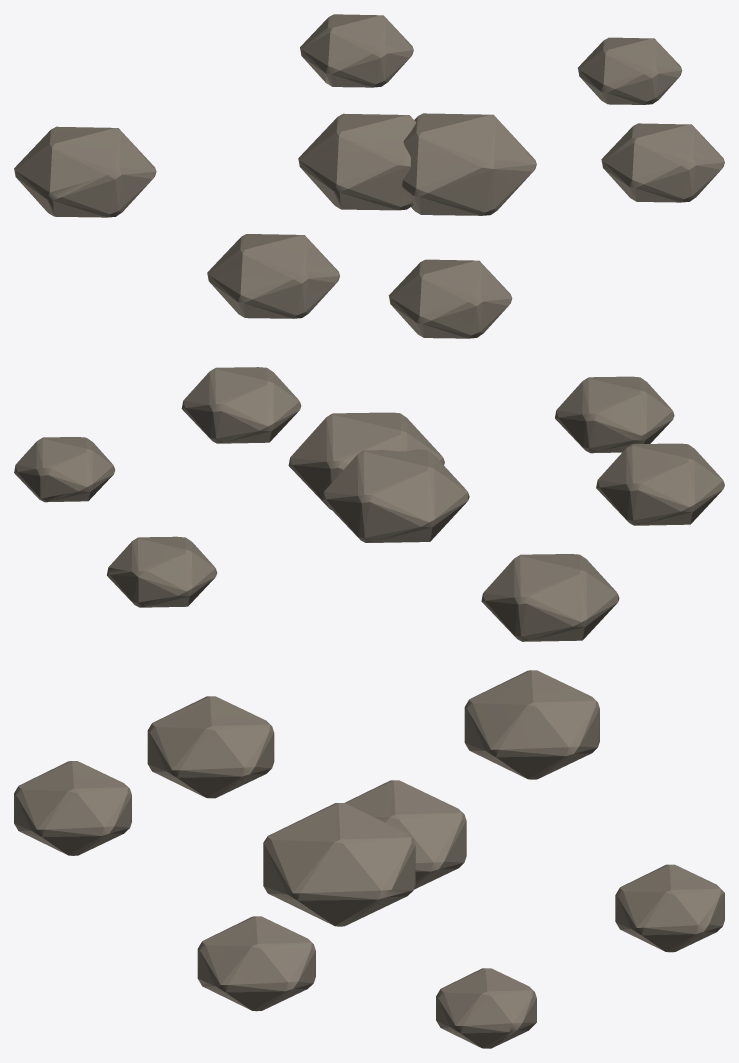
Rendered from prop_scree_lod1.glb.
The picture shows the model from 3 angles, top to bottom: view 1: azimuth 30°, elevation 25°; view 2: azimuth 150°, elevation 25°; view 3: azimuth 270°, elevation 25°; orthographic projection. The views are drawn at different scales.
Visible parts, largest first — view 1: prop_scree_lod1; view 2: prop_scree_lod1; view 3: prop_scree_lod1.
Boxes of the visible parts, x1,y1,x2,y2 form: prop_scree_lod1: [14, 14, 724, 338]; prop_scree_lod1: [14, 367, 724, 641]; prop_scree_lod1: [14, 670, 724, 1048].
Size of the model in its own units: 1.65 by 0.2154 by 1.55.
